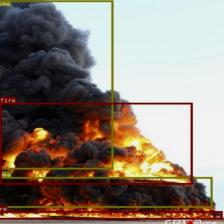fire: (0, 102, 192, 184), (0, 210, 222, 219)
smoke: (0, 0, 113, 169), (0, 176, 212, 208)
